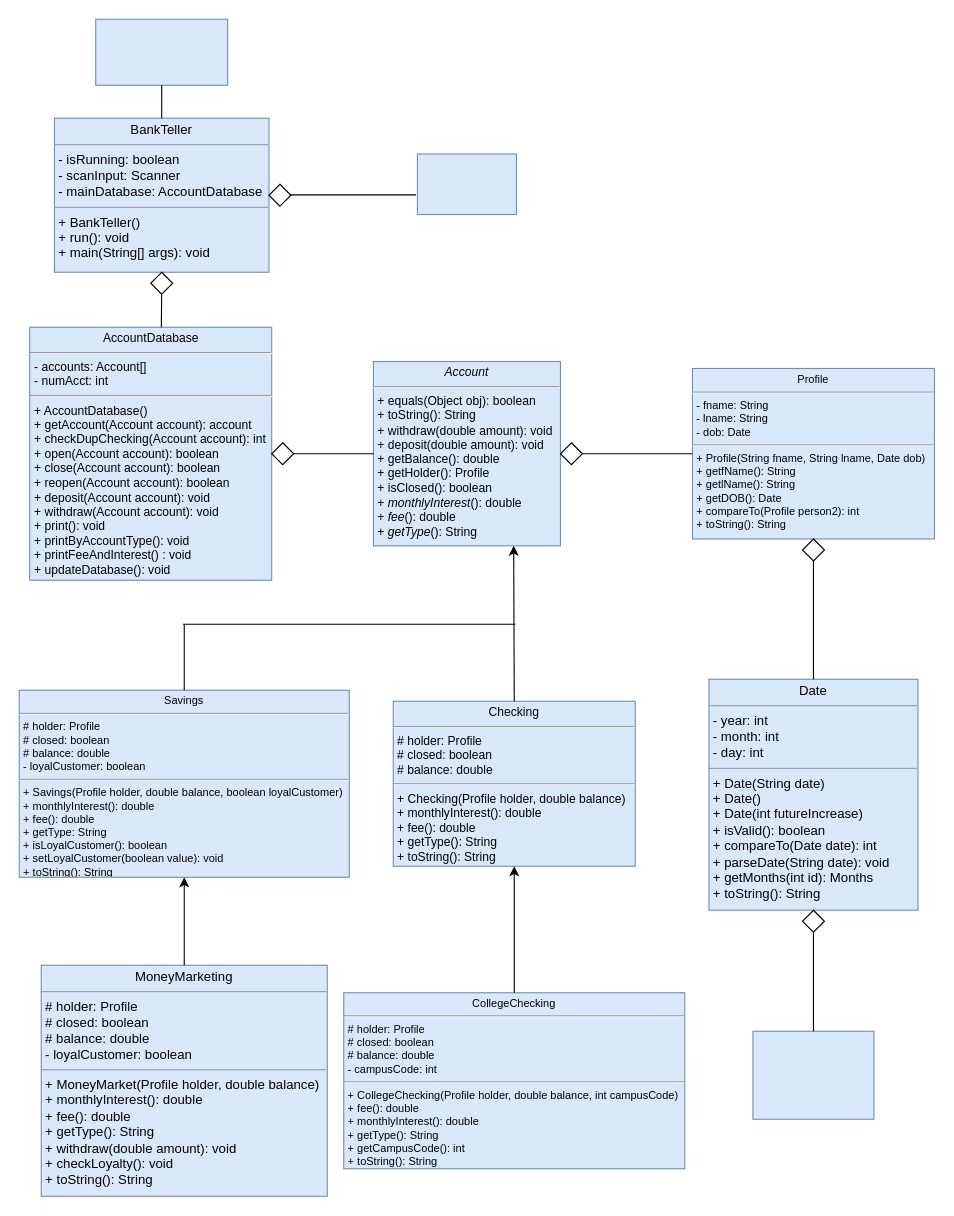
The diagram is 954 pixels wide and 1216 high, and some of its shapes have lost their labels. Here are the shapes that lost their labels. From the top down, the box of each, then its label:
(95, 18, 228, 85): Object
(416, 153, 516, 215): Commands - id: int
(752, 1030, 874, 1119): Months - id: int - days: int - leapYearDays: int
